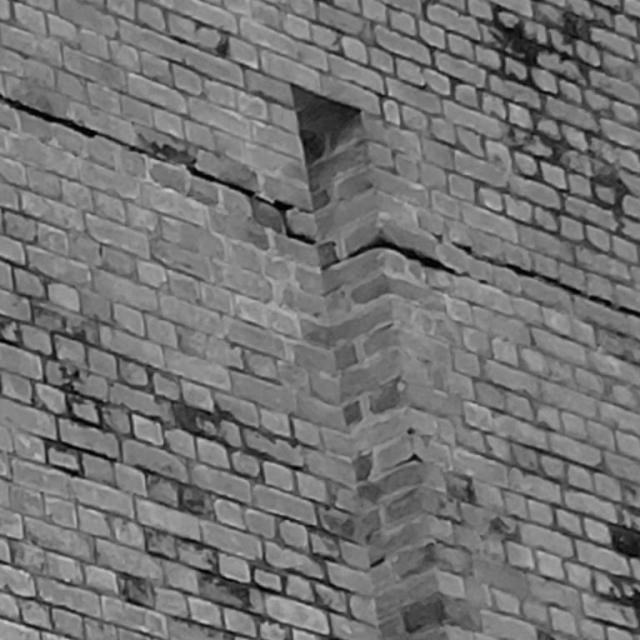crack: (1, 95, 316, 244), (421, 226, 640, 316), (321, 238, 486, 282)
